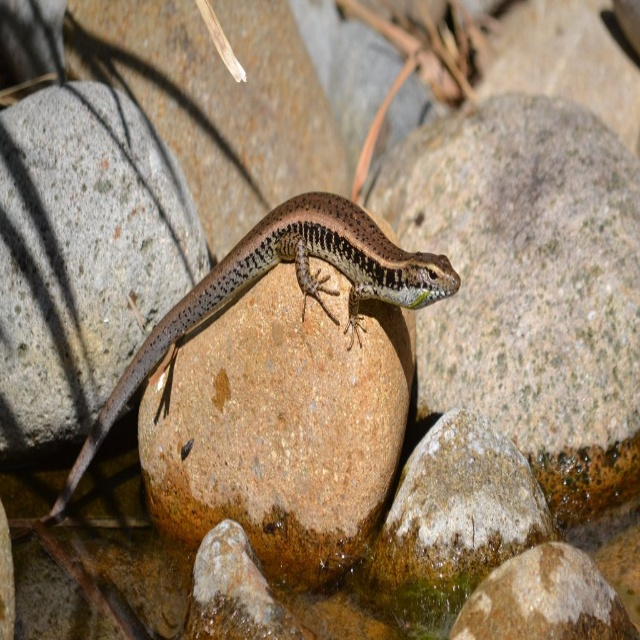Lizard: (22, 185, 466, 478)
